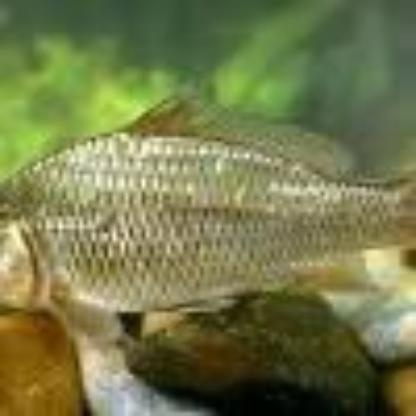ikan-mas: (0, 120, 410, 307)
